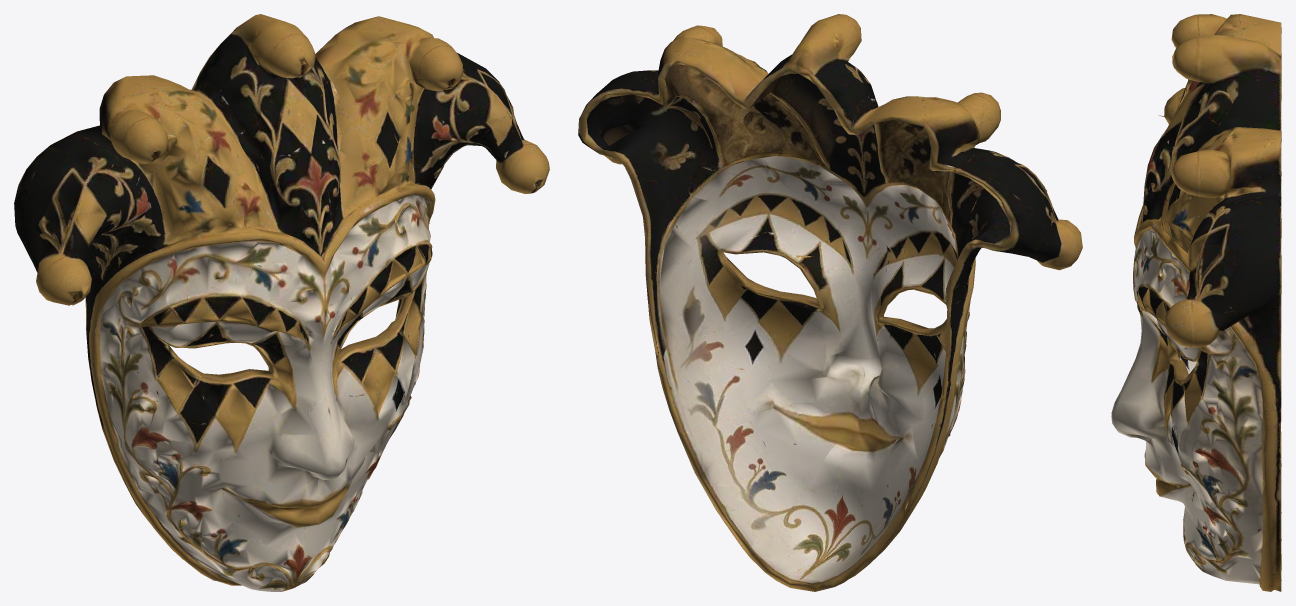
The picture shows the model from 3 angles, left to right: view 1: azimuth 30°, elevation 25°; view 2: azimuth 150°, elevation 25°; view 3: azimuth 270°, elevation 25°; orthographic projection. The views are drawn at different scales.
Bounding box in the file's own units: 1.74 × 1.9 × 0.5344.
Materials: 1 (1 with a texture image).
